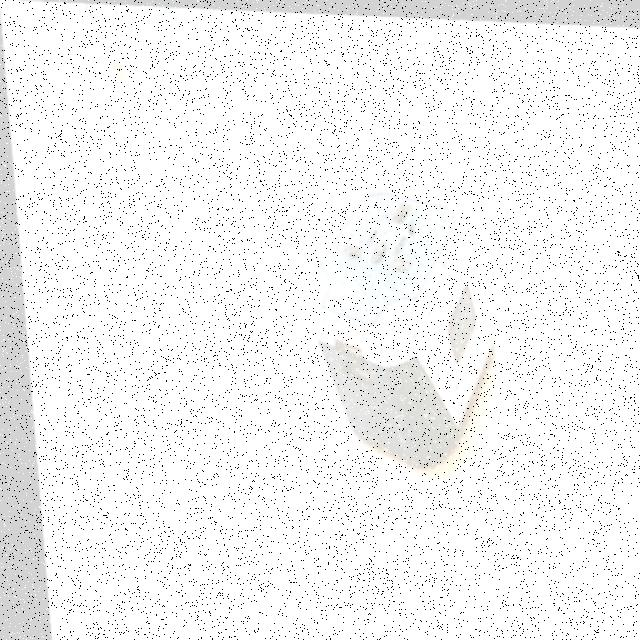adapter: (290, 177, 497, 467)
